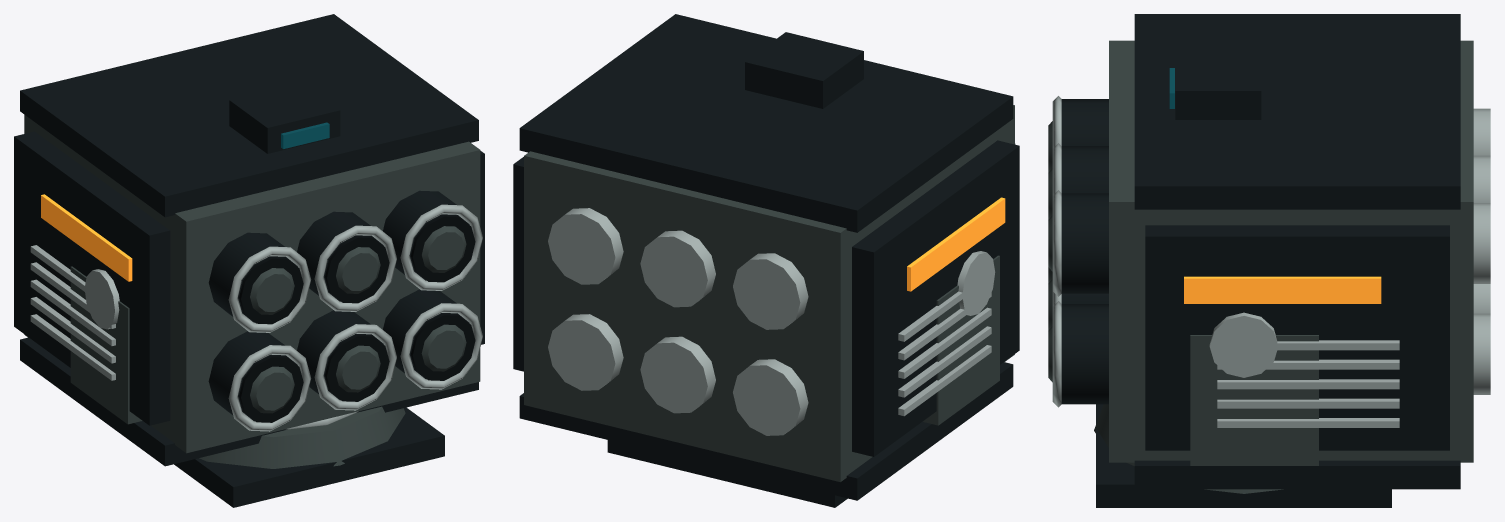
Rendered from missile-pod-lod2.glb.
3 views of the same model, side by side, from view 1: azimuth 30°, elevation 25°; view 2: azimuth 150°, elevation 25°; view 3: azimuth 270°, elevation 25° (orthographic). The views are drawn at different scales.
Visible parts, largest first — view 1: pod-housing__Recessed_carbon_mechanism, pod-housing__Cerakote_graphite_armor, side-armor__Recessed_carbon_mechanism, launch-cells__Recessed_carbon_mechanism, cell-rims__Machined_titanium, cell-interiors__Vibration_isolator, cell-safety-caps__Cerakote_graphite_armor, mount__Recessed_carbon_mechanism, mount__Cerakote_graphite_armor, sensor__Recessed_carbon_mechanism, cooling-fins__Machined_titanium, cradle__Cerakote_graphite_armor (+3 smaller); view 2: pod-housing__Recessed_carbon_mechanism, pod-housing__Cerakote_graphite_armor, side-armor__Recessed_carbon_mechanism, rear-caps__Machined_titanium, sensor__Recessed_carbon_mechanism, cooling-fins__Machined_titanium, cradle__Cerakote_graphite_armor, mount__Recessed_carbon_mechanism, identification__Amber_safety_identification, trunnion__Machined_titanium; view 3: pod-housing__Recessed_carbon_mechanism, side-armor__Recessed_carbon_mechanism, pod-housing__Cerakote_graphite_armor, launch-cells__Recessed_carbon_mechanism, cradle__Cerakote_graphite_armor, cooling-fins__Machined_titanium, mount__Recessed_carbon_mechanism, sensor__Recessed_carbon_mechanism, identification__Amber_safety_identification, rear-caps__Machined_titanium, cell-rims__Machined_titanium, trunnion__Machined_titanium (+2 smaller).
Boxes of the visible parts, bbox=[...] form: pod-housing__Recessed_carbon_mechanism: bbox=[20, 14, 478, 466]; pod-housing__Cerakote_graphite_armor: bbox=[24, 115, 480, 453]; side-armor__Recessed_carbon_mechanism: bbox=[14, 131, 484, 425]; launch-cells__Recessed_carbon_mechanism: bbox=[208, 190, 469, 421]; cell-rims__Machined_titanium: bbox=[228, 204, 482, 431]; cell-interiors__Vibration_isolator: bbox=[239, 215, 475, 422]; cell-safety-caps__Cerakote_graphite_armor: bbox=[250, 226, 466, 413]; mount__Recessed_carbon_mechanism: bbox=[174, 407, 444, 507]; mount__Cerakote_graphite_armor: bbox=[199, 406, 405, 468]; sensor__Recessed_carbon_mechanism: bbox=[229, 82, 340, 153]; cooling-fins__Machined_titanium: bbox=[30, 245, 115, 380]; cradle__Cerakote_graphite_armor: bbox=[70, 266, 142, 424]; pod-housing__Recessed_carbon_mechanism: bbox=[519, 14, 1013, 500]; pod-housing__Cerakote_graphite_armor: bbox=[524, 105, 1014, 482]; side-armor__Recessed_carbon_mechanism: bbox=[513, 140, 1019, 456]; rear-caps__Machined_titanium: bbox=[548, 208, 808, 435]; sensor__Recessed_carbon_mechanism: bbox=[745, 32, 863, 108]; cooling-fins__Machined_titanium: bbox=[898, 272, 991, 416]; cradle__Cerakote_graphite_armor: bbox=[922, 255, 999, 425]; mount__Recessed_carbon_mechanism: bbox=[607, 440, 847, 507]; identification__Amber_safety_identification: bbox=[907, 197, 1005, 291]; trunnion__Machined_titanium: bbox=[957, 251, 995, 315]; pod-housing__Recessed_carbon_mechanism: bbox=[1134, 14, 1460, 489]; side-armor__Recessed_carbon_mechanism: bbox=[1145, 225, 1449, 450]; pod-housing__Cerakote_graphite_armor: bbox=[1109, 40, 1473, 462]; launch-cells__Recessed_carbon_mechanism: bbox=[1061, 99, 1108, 404]; cradle__Cerakote_graphite_armor: bbox=[1190, 335, 1318, 465]; cooling-fins__Machined_titanium: bbox=[1217, 340, 1399, 427]; mount__Recessed_carbon_mechanism: bbox=[1096, 404, 1391, 507]; sensor__Recessed_carbon_mechanism: bbox=[1175, 51, 1261, 119]; identification__Amber_safety_identification: bbox=[1184, 276, 1381, 303]; rear-caps__Machined_titanium: bbox=[1473, 108, 1490, 394]; cell-rims__Machined_titanium: bbox=[1052, 96, 1061, 407]; trunnion__Machined_titanium: bbox=[1209, 312, 1277, 377].
Bounding box in the file's own units: 2.1 × 1.95 × 2.06.
